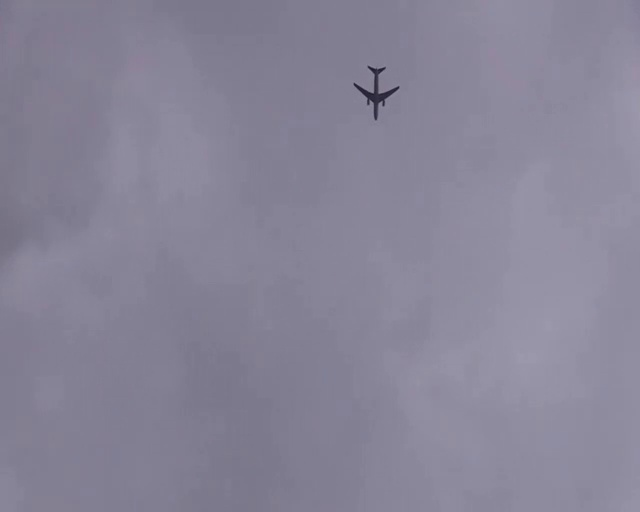AIRPLANE: (352, 65, 401, 120)
